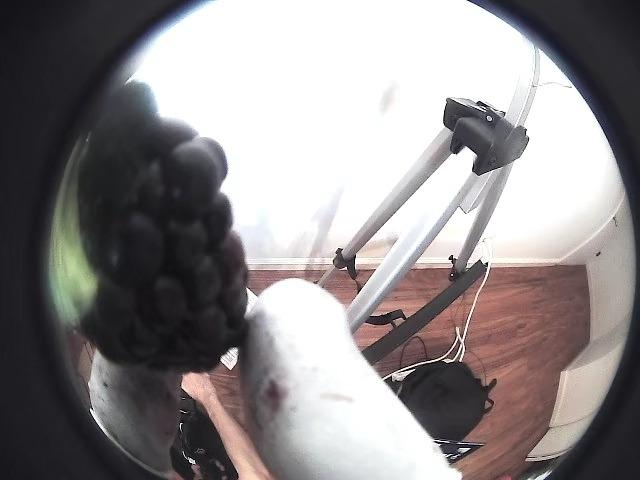berry: (49, 82, 247, 371)
gripper: (239, 278, 459, 479), (89, 352, 180, 477)
lense: (0, 0, 201, 479), (471, 0, 639, 479)
